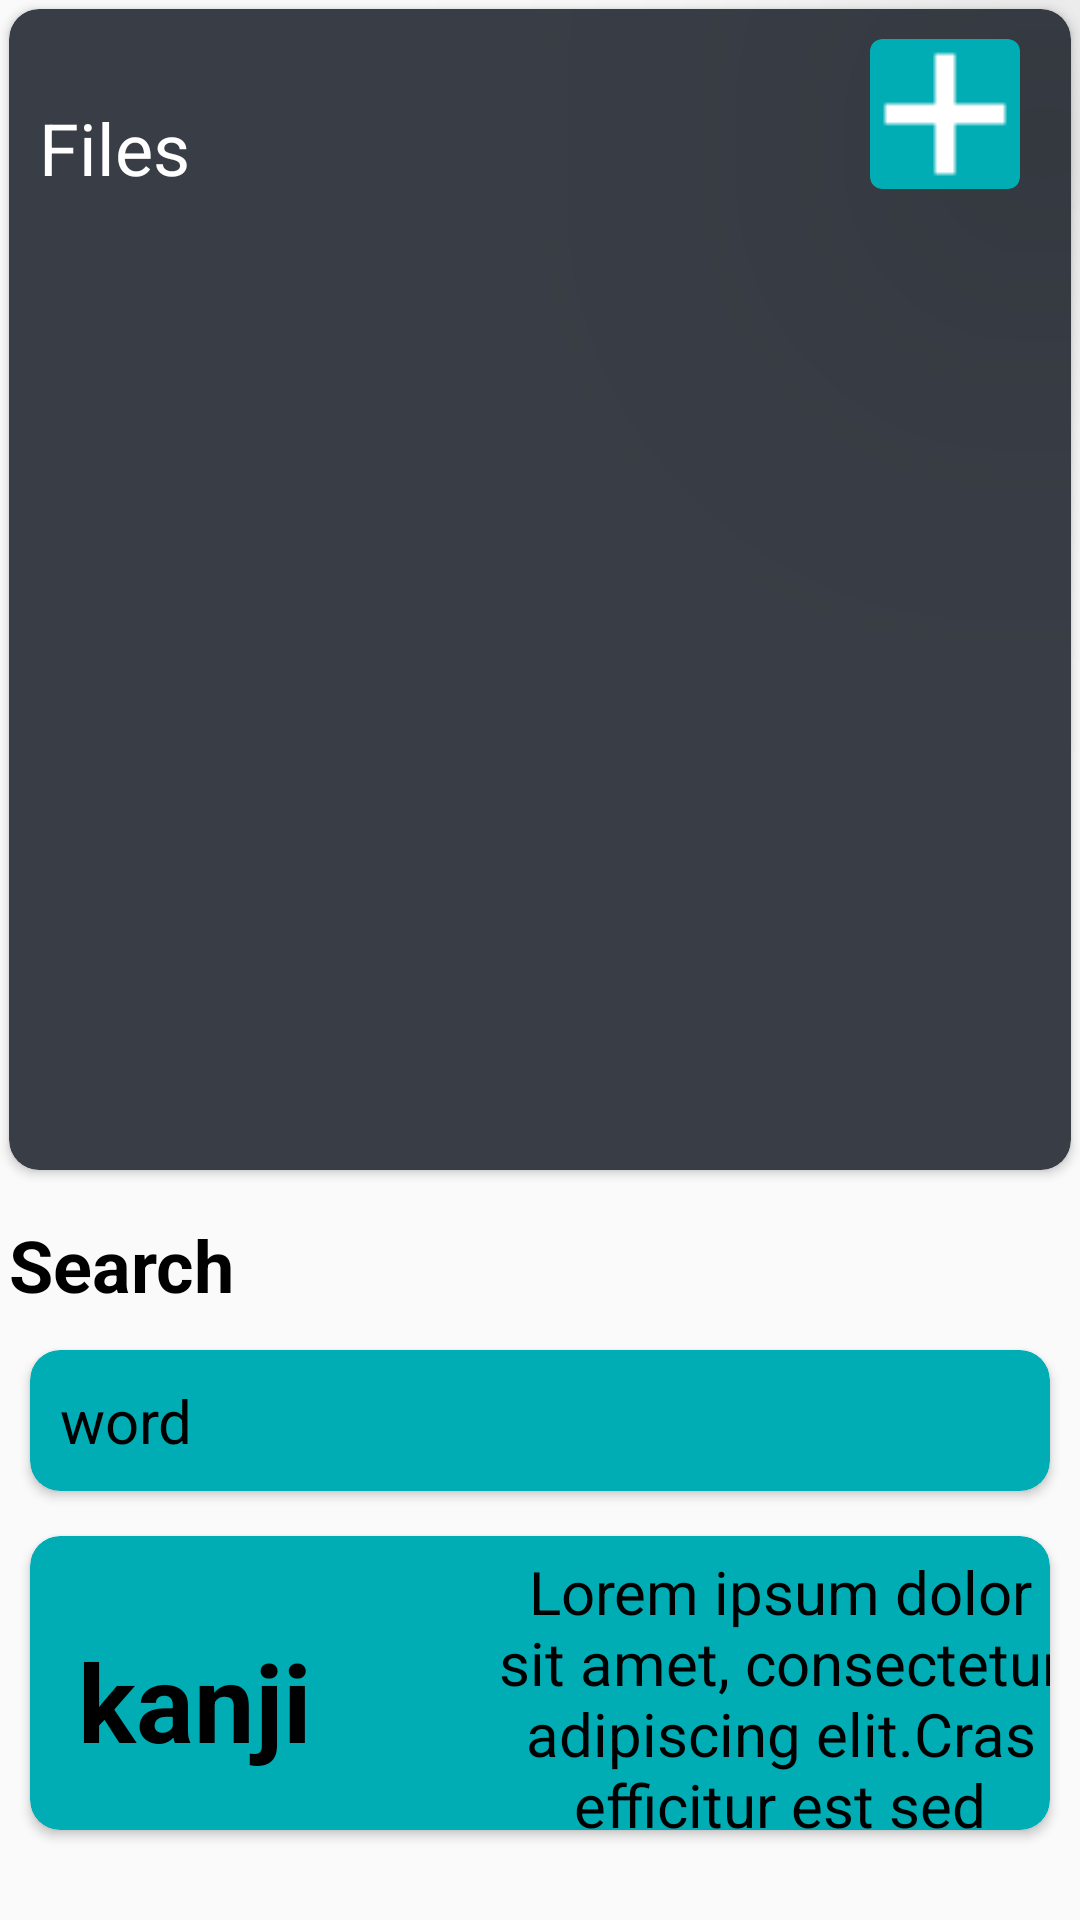

Point at icon controls on the screen. Image size 1080 x 1920, points as point (x, y).
add: point (945, 114)
